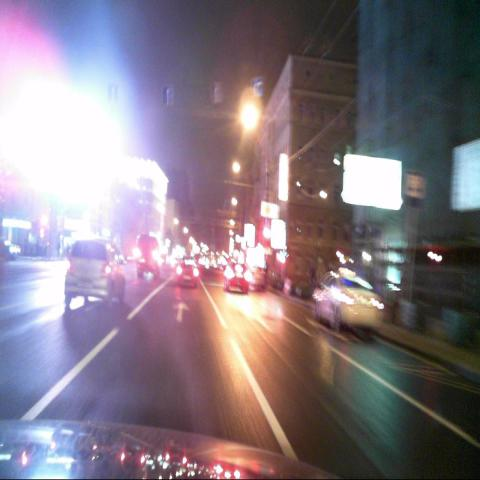5_15_2: (252, 76, 264, 98)
